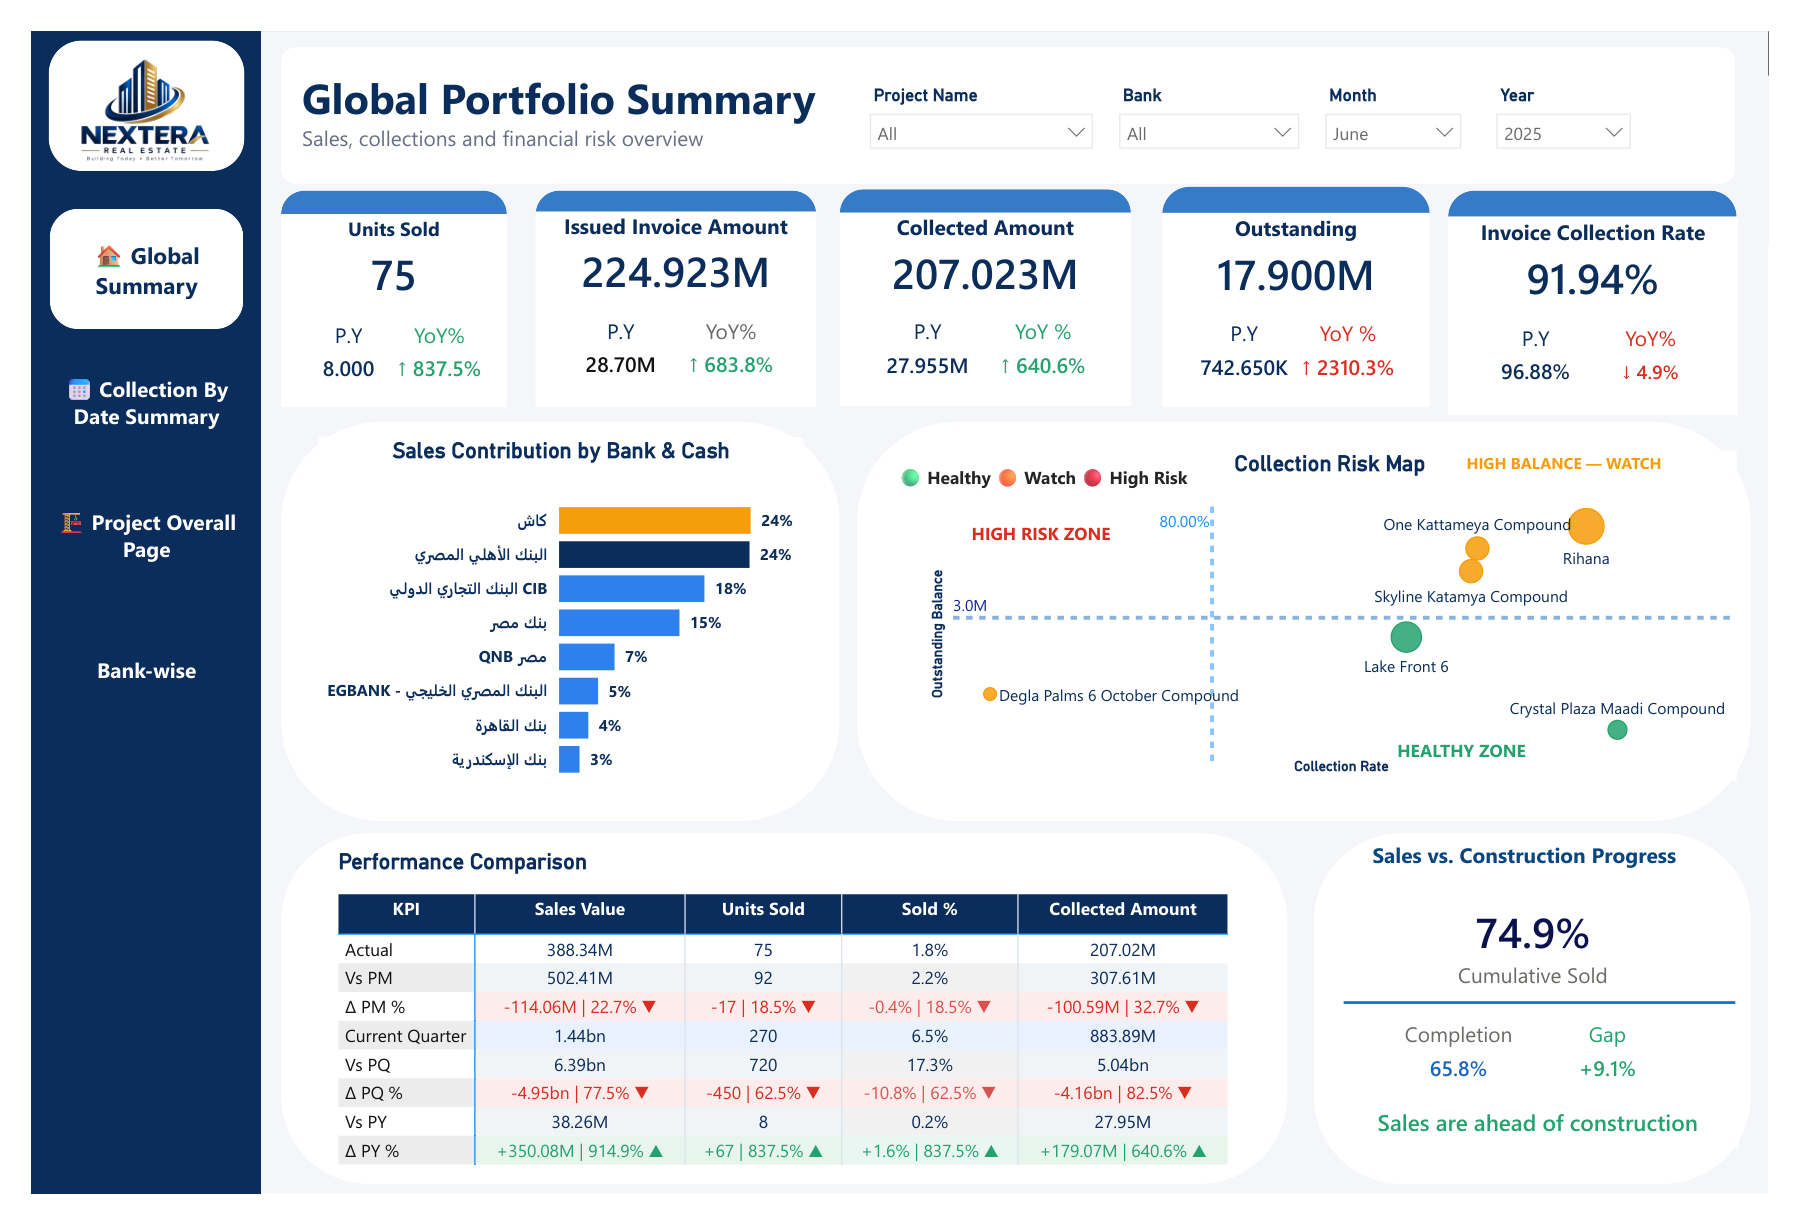

The page's visual inventory and layout, read from the dashboard file:
{"tool":"powerbi","page":{"name":"🏠 Global Summary","canvas":[1330,890],"ordinal":0},"visuals":[{"type":"shape","box":[982.1,613.8,335.4,269.6],"z":0},{"type":"shape","box":[190.7,613.8,771.6,269.6],"z":1000},{"type":"shape","box":[632.4,299.2,685,305.8],"z":2000},{"type":"shape","box":[0,0,175.4,890],"z":3000},{"type":"pageNavigator","box":[13.6,136.2,148.8,400.7],"z":4000},{"type":"shape","box":[190.5,11.5,1114.8,105.7],"z":5000},{"type":"shape","box":[12.6,6.8,150,100],"z":6000},{"type":"image","box":[12.6,6.8,148.8,107],"z":7000},{"type":"textbox","box":[202.3,23.3,575.8,73.9],"z":8000},{"type":"slicer","fields":{"Values":["Dim Project.Project Name"]},"box":[632.2,36,190.6,55.4],"z":9000},{"type":"slicer","fields":{"Values":["Dim Bank.Bank"]},"box":[822.9,36,158.5,60.3],"z":10000},{"type":"slicer","fields":{"Values":["DimDate.Month Name"]},"box":[981.4,36,123.5,61.3],"z":11000},{"type":"slicer","fields":{"Values":["DimDate.Year"]},"box":[1111.7,36,123.5,61.3],"z":12000},{"type":"cardVisual","fields":{"Data":["Dax.# Sold"]},"box":[190.7,135.9,173.2,152.4],"z":13000},{"type":"shape","box":[190.7,121.7,173.2,18.6],"z":14000},{"type":"shape","box":[385.8,121.7,214.8,18.6],"z":15000},{"type":"shape","box":[619.3,120.6,222.5,18.6],"z":16000},{"type":"cardVisual","fields":{"Data":["Dax.Amount Collected"]},"box":[619.3,139.2,222.5,148],"z":17000},{"type":"shape","box":[865.9,119.5,205,20.8],"z":18000},{"type":"cardVisual","fields":{"Data":["Dax.Outstanding Balance"]},"box":[865.9,139.2,205,149.1],"z":19000},{"type":"shape","box":[1085.3,121.9,220.2,19.7],"z":20000},{"type":"scatterChart","title":"Collection Risk Map","fields":{"X":["Dax.Collection Rate"],"Y":["Dax.Outstanding Balance"],"Size":["Dax.Unit Price (Sold)"],"Category":["Dim Project.Project Name"]},"box":[683,321.1,623,253.2],"z":20000,"group":"g1"},{"type":"cardVisual","fields":{"Data":["Dax.Collection Rate"]},"box":[1085.3,141.6,221.4,152.4],"z":21000},{"type":"textbox","box":[658.7,328.4,232.7,36.7],"z":21000,"group":"g1"},{"type":"cardVisual","fields":{"Data":["Dax.Invoiced Amount"]},"box":[385.8,138.1,214.8,150.2],"z":22000},{"type":"textbox","box":[714.9,370.8,122.8,32.9],"z":22000,"group":"g1"},{"type":"group","id":"g1","title":"Group 1","box":[658.7,316,647.3,258.3],"z":23000},{"type":"textbox","box":[1094.1,316,176.5,29.6],"z":23000,"group":"g1"},{"type":"shape","box":[190.7,299.2,428.6,305.8],"z":24000},{"type":"textbox","box":[1040.3,537.2,116.8,33],"z":24001,"group":"g1"},{"type":"clusteredBarChart","title":"Sales Contribution by Bank & Cash","fields":{"Category":["Dim Bank.Bank"],"Y":["Dax.Bank Sales Contribution %"]},"box":[220.3,311.3,370.5,272.9],"z":25000},{"type":"pivotTable","title":"Performance Comparison","fields":{"Rows":["KPI Comparison Rows.KPI"],"Values":["Dax.Sales Value KPI Matrix","Dax.Units Sold KPI Matrix","Dax.Sold % KPI Matrix","Dax.Collected Amount KPI Matrix"]},"box":[230.2,625.8,692.7,249.9],"z":26000},{"type":"textbox","box":[1021.5,614.9,295.9,58.1],"z":27000},{"type":"cardVisual","fields":{"Data":["Dax.Outlook Sold %"]},"box":[999.6,646.7,300.3,179.8],"z":28000},{"type":"cardVisual","fields":{"Data":["Dax.Project Pace Status"]},"box":[1001.8,806.7,311.3,53.7],"z":29000},{"type":"shape","box":[1005.1,736.6,300.3,14.2],"z":30000}]}

Visuals, with their boxes in screenshot pixels (x1, y1, x2, y2), scaled from the page's 1330x890 canvas onto the 1800x1225 screenshot:
shape: {"left": 1329, "top": 845, "right": 1783, "bottom": 1216}
shape: {"left": 258, "top": 845, "right": 1302, "bottom": 1216}
shape: {"left": 856, "top": 412, "right": 1783, "bottom": 833}
shape: {"left": 0, "top": 0, "right": 237, "bottom": 1224}
pageNavigator: {"left": 18, "top": 187, "right": 220, "bottom": 739}
shape: {"left": 258, "top": 16, "right": 1767, "bottom": 161}
shape: {"left": 17, "top": 9, "right": 220, "bottom": 147}
image: {"left": 17, "top": 9, "right": 218, "bottom": 157}
textbox: {"left": 274, "top": 32, "right": 1053, "bottom": 134}
slicer - Dim Project.Project Name: {"left": 856, "top": 50, "right": 1114, "bottom": 126}
slicer - Dim Bank.Bank: {"left": 1114, "top": 50, "right": 1328, "bottom": 133}
slicer - DimDate.Month Name: {"left": 1328, "top": 50, "right": 1495, "bottom": 134}
slicer - DimDate.Year: {"left": 1505, "top": 50, "right": 1672, "bottom": 134}
cardVisual - Dax.# Sold: {"left": 258, "top": 187, "right": 492, "bottom": 397}
shape: {"left": 258, "top": 168, "right": 492, "bottom": 193}
shape: {"left": 522, "top": 168, "right": 813, "bottom": 193}
shape: {"left": 838, "top": 166, "right": 1139, "bottom": 192}
cardVisual - Dax.Amount Collected: {"left": 838, "top": 192, "right": 1139, "bottom": 395}
shape: {"left": 1172, "top": 164, "right": 1449, "bottom": 193}
cardVisual - Dax.Outstanding Balance: {"left": 1172, "top": 192, "right": 1449, "bottom": 397}
shape: {"left": 1469, "top": 168, "right": 1767, "bottom": 195}
"Collection Risk Map" scatterChart: {"left": 924, "top": 442, "right": 1768, "bottom": 790}
cardVisual - Dax.Collection Rate: {"left": 1469, "top": 195, "right": 1768, "bottom": 405}
textbox: {"left": 891, "top": 452, "right": 1206, "bottom": 503}
cardVisual - Dax.Invoiced Amount: {"left": 522, "top": 190, "right": 813, "bottom": 397}
textbox: {"left": 968, "top": 510, "right": 1134, "bottom": 556}
"Group 1" group: {"left": 891, "top": 435, "right": 1768, "bottom": 790}
textbox: {"left": 1481, "top": 435, "right": 1720, "bottom": 476}
shape: {"left": 258, "top": 412, "right": 838, "bottom": 833}
textbox: {"left": 1408, "top": 739, "right": 1566, "bottom": 785}
"Sales Contribution by Bank & Cash" clusteredBarChart: {"left": 298, "top": 428, "right": 800, "bottom": 804}
"Performance Comparison" pivotTable: {"left": 312, "top": 861, "right": 1249, "bottom": 1205}
textbox: {"left": 1382, "top": 846, "right": 1783, "bottom": 926}
cardVisual - Dax.Outlook Sold %: {"left": 1353, "top": 890, "right": 1759, "bottom": 1138}
cardVisual - Dax.Project Pace Status: {"left": 1356, "top": 1110, "right": 1777, "bottom": 1184}
shape: {"left": 1360, "top": 1014, "right": 1767, "bottom": 1033}
